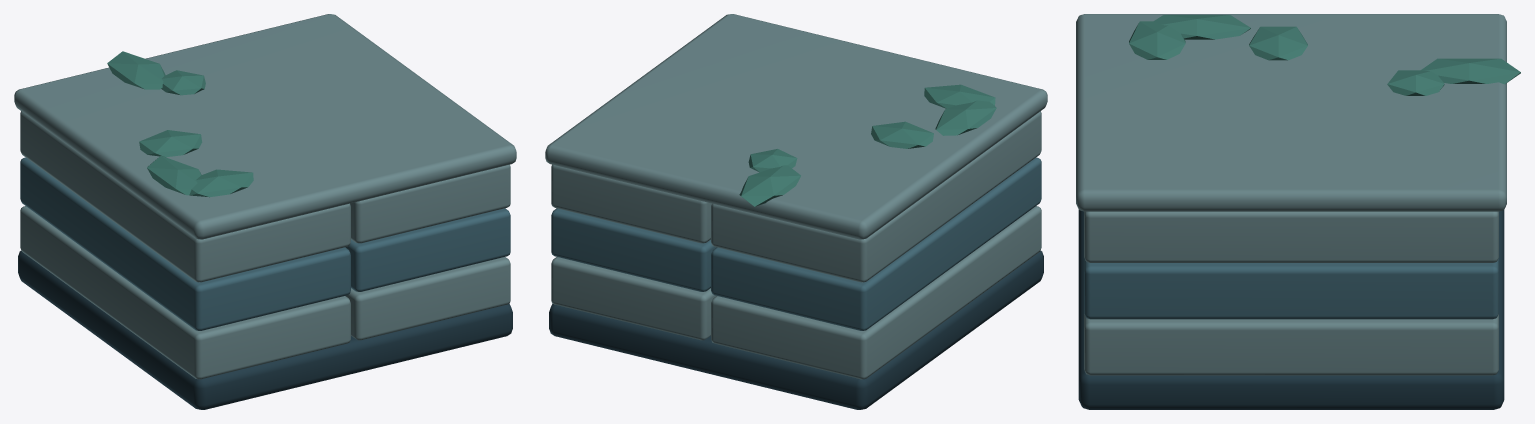
The model's file is wall_0.glb.
The picture shows the model from 3 angles, left to right: view 1: azimuth 30°, elevation 25°; view 2: azimuth 150°, elevation 25°; view 3: azimuth 270°, elevation 25°; orthographic projection. The views are drawn at different scales.
Parts seen in each view (by area): view 1: Coping, CarvedBlock.002, CarvedBlock, Foundation, CarvedBlock.004, CarvedBlock.003, CarvedBlock.001, CarvedBlock.005, Moss.004, Moss.003, Moss, Moss.001 (+1 smaller); view 2: Coping, CarvedBlock.002, CarvedBlock, Foundation, CarvedBlock.004, CarvedBlock.003, CarvedBlock.001, CarvedBlock.005, Moss.004, Moss.003, Moss.001, Moss (+1 smaller); view 3: Coping, CarvedBlock.001, CarvedBlock.003, CarvedBlock.005, Foundation, Moss.004, Moss.003, Moss, Moss.001, Moss.002.
Part boxes in pixels (x1,y1,x2,y2): Coping: (14, 14, 516, 239); CarvedBlock.002: (20, 157, 350, 330); CarvedBlock: (20, 206, 350, 379); Foundation: (18, 250, 512, 409); CarvedBlock.004: (20, 111, 350, 282); CarvedBlock.003: (346, 208, 510, 291); CarvedBlock.001: (345, 257, 510, 340); CarvedBlock.005: (350, 164, 510, 243); Moss.004: (107, 51, 165, 89); Moss.003: (147, 155, 201, 195); Moss: (189, 169, 253, 197); Moss.001: (139, 130, 202, 157); Coping: (545, 14, 1047, 239); CarvedBlock.002: (711, 157, 1041, 330); CarvedBlock: (711, 206, 1041, 379); Foundation: (549, 250, 1043, 409); CarvedBlock.004: (711, 111, 1041, 282); CarvedBlock.003: (551, 208, 715, 291); CarvedBlock.001: (551, 257, 716, 340); CarvedBlock.005: (551, 164, 711, 243); Moss.004: (739, 165, 800, 206); Moss.003: (935, 100, 996, 135); Moss.001: (871, 121, 933, 148); Moss: (924, 84, 995, 108); Coping: (1076, 14, 1506, 211); CarvedBlock.001: (1084, 314, 1498, 375); CarvedBlock.003: (1084, 257, 1498, 319); CarvedBlock.005: (1084, 211, 1498, 262); Foundation: (1078, 209, 1504, 409); Moss.004: (1421, 58, 1520, 84); Moss.003: (1153, 15, 1250, 39); Moss: (1129, 21, 1185, 59); Moss.001: (1249, 26, 1307, 60); Moss.002: (1387, 70, 1444, 95).
Size of the model in its own units: 4.03 by 2.4 by 4.16.
